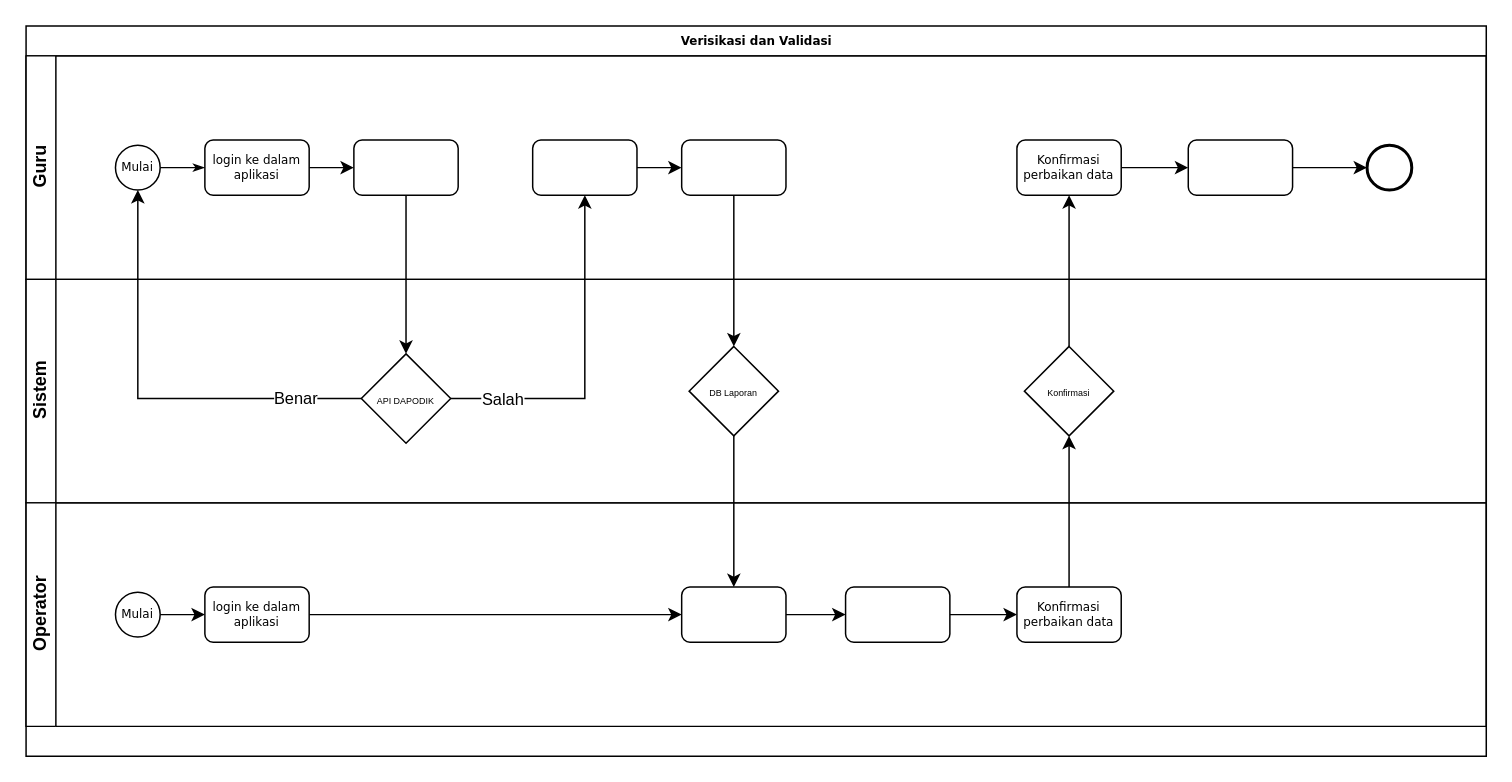
Image size: 1512x782. Some labels were removed from this diagram. The centre of each missing label's shape, as x and y in pixels:
Data benar: point (1240, 167)
Data Salah: point (584, 167)
Melapor kesalahan data: point (733, 167)
Memperbaiki ke aplikasi dapodik: point (897, 614)
mengecek data: point (405, 167)
Notifikasi Laporan: point (733, 614)
